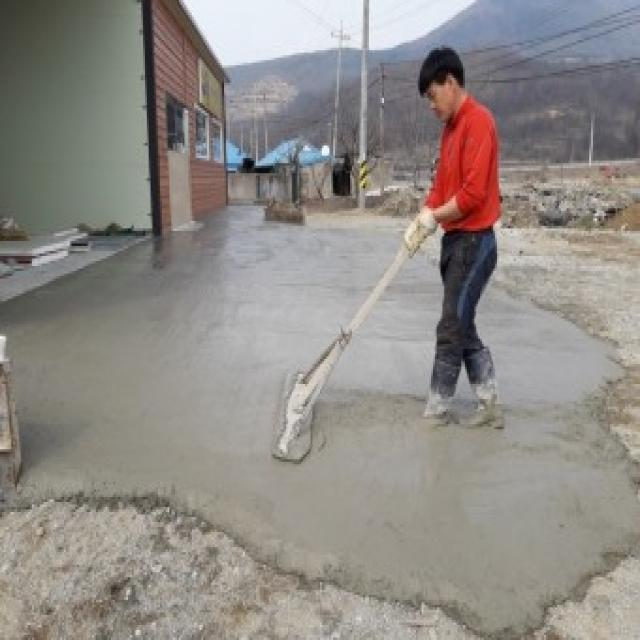long handle float: (270, 230, 424, 462)
